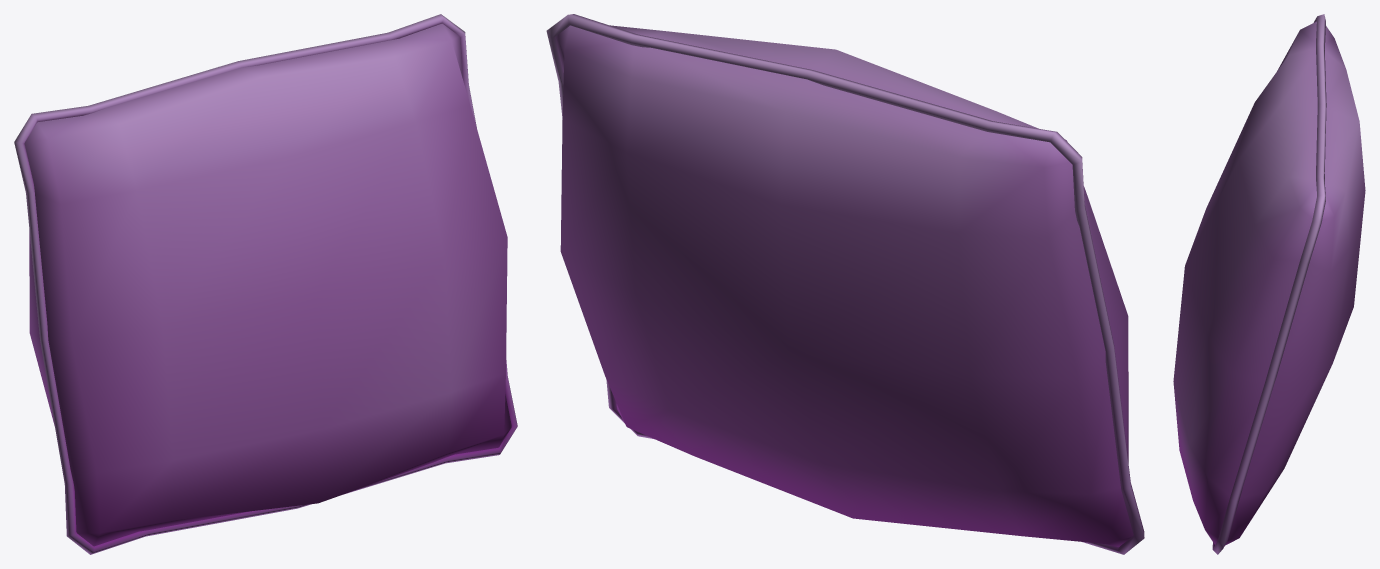
File: CR_ChairCushion_02.FBX
3 renders of one model, left to right at view 1: azimuth 30°, elevation 25°; view 2: azimuth 150°, elevation 25°; view 3: azimuth 270°, elevation 25°, orthographic. The views are drawn at different scales.
Parts seen in each view (by area): view 1: CR_ChairCushion_02; view 2: CR_ChairCushion_02; view 3: CR_ChairCushion_02.
Part boxes in pixels (<box>): CR_ChairCushion_02: <box>14,14,517,554</box>; CR_ChairCushion_02: <box>546,14,1144,554</box>; CR_ChairCushion_02: <box>1173,14,1365,554</box>.
Size of the model in its own units: 30.01 by 25.5 by 12.11.
